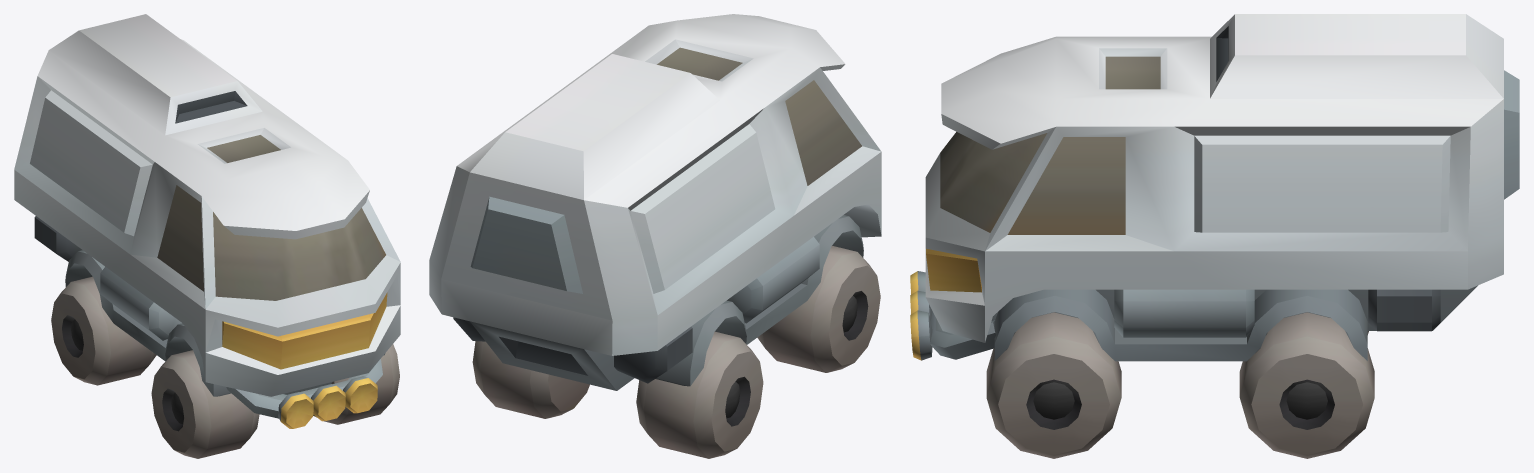
The model's file is kay-caminhao-espacial.gltf.
3 renders of one model, left to right at view 1: azimuth 30°, elevation 25°; view 2: azimuth 150°, elevation 25°; view 3: azimuth 270°, elevation 25°, orthographic. The views are drawn at different scales.
Visible parts, largest first — view 1: spacetruck_large; view 2: spacetruck_large; view 3: spacetruck_large.
Part boxes in pixels (x1,y1,x2,y2): spacetruck_large: (14, 14, 400, 458); spacetruck_large: (429, 14, 881, 458); spacetruck_large: (910, 14, 1519, 458).
Bounding box in the file's own units: 1.31 × 1.78 × 2.67.
Materials: 1 (1 with a texture image).
